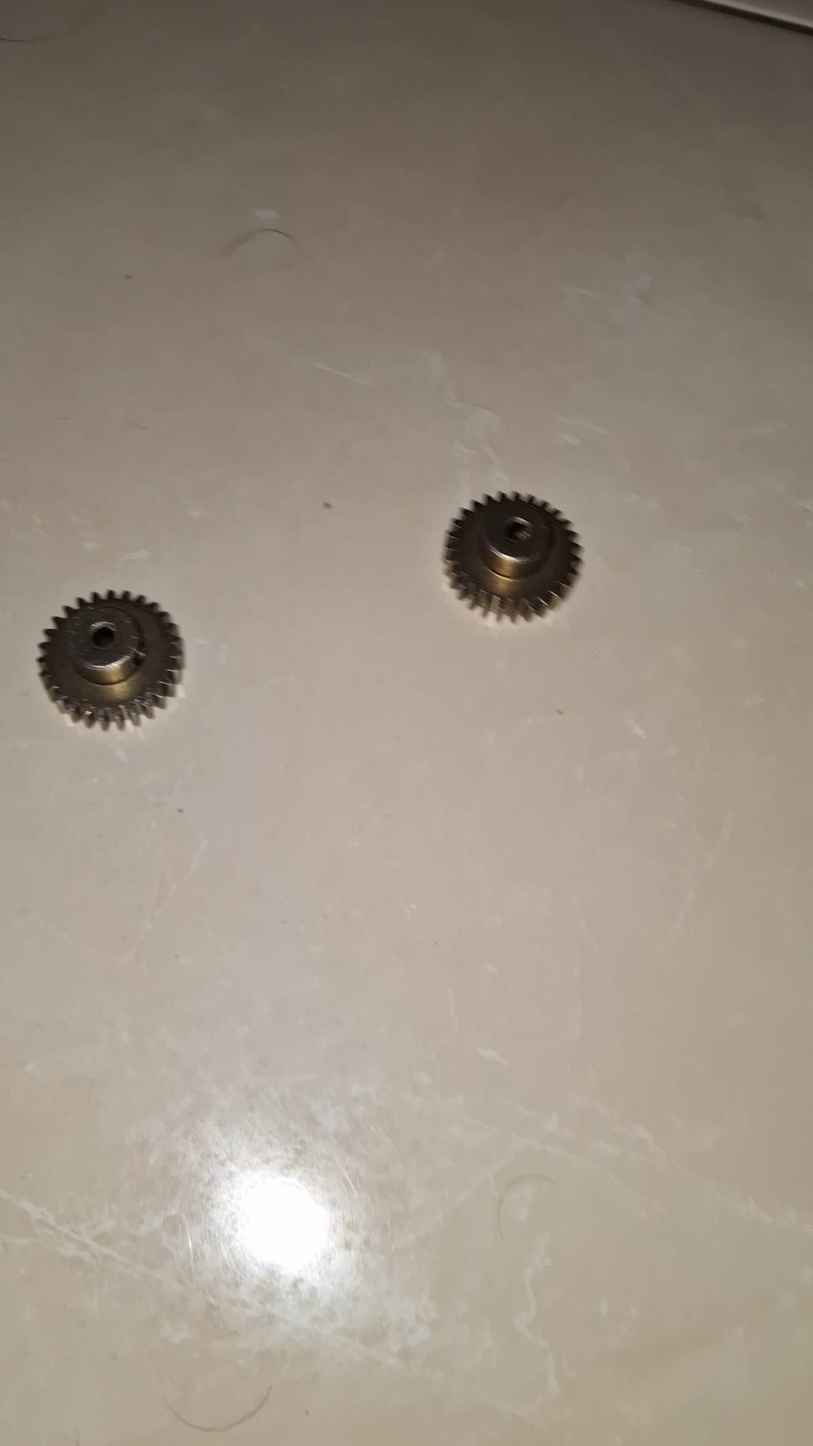spur gear: (39, 591, 183, 726), (444, 493, 580, 620)
